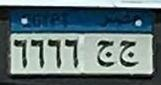6: (46, 36, 63, 69), (29, 37, 46, 69), (63, 38, 81, 67), (13, 37, 28, 69)
jeem: (118, 37, 141, 68), (95, 38, 115, 69)
